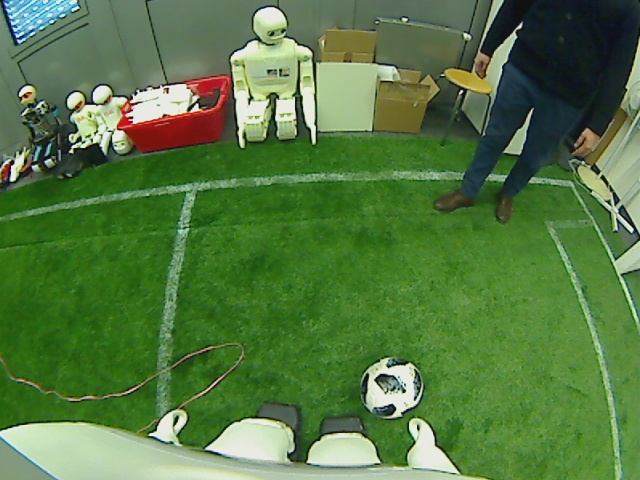ball: (356, 356, 426, 421)
